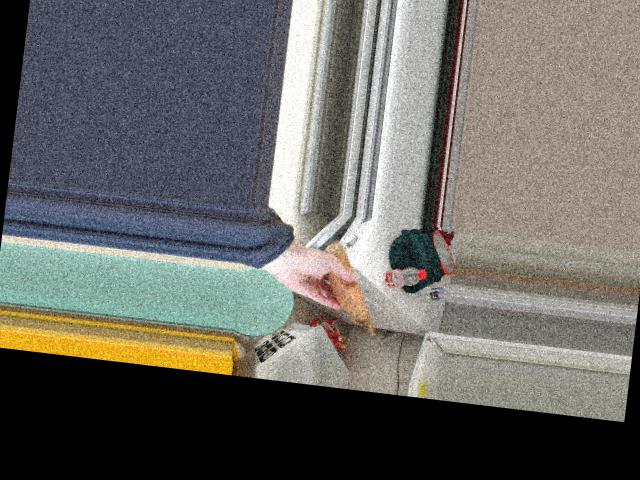sweet_potato: (323, 261, 375, 314)
